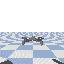drone: (21, 35, 44, 46)
